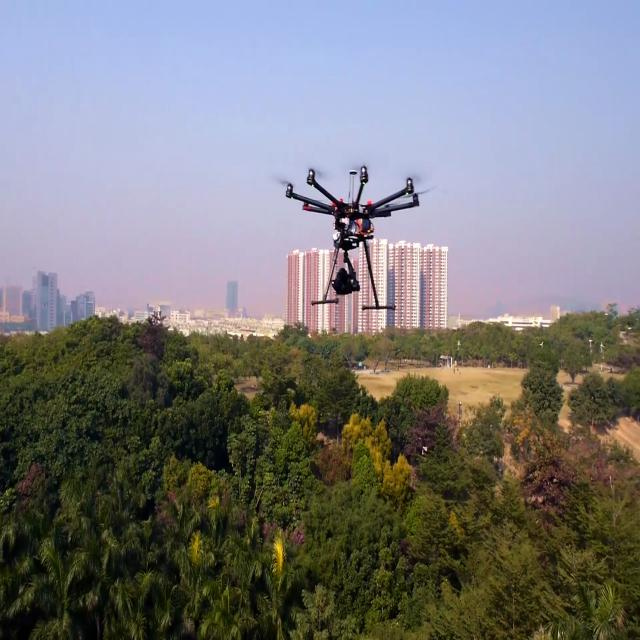drone: (280, 138, 424, 334)
